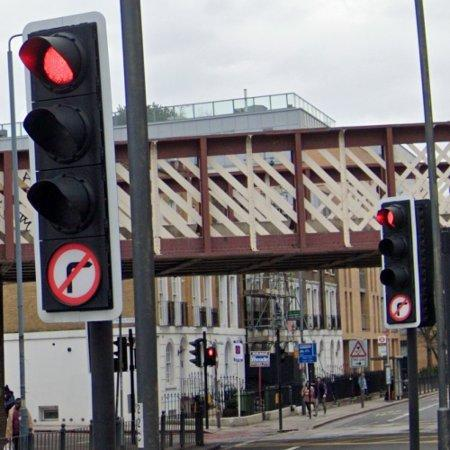traffic lights: (16, 10, 125, 321), (372, 195, 421, 329)
